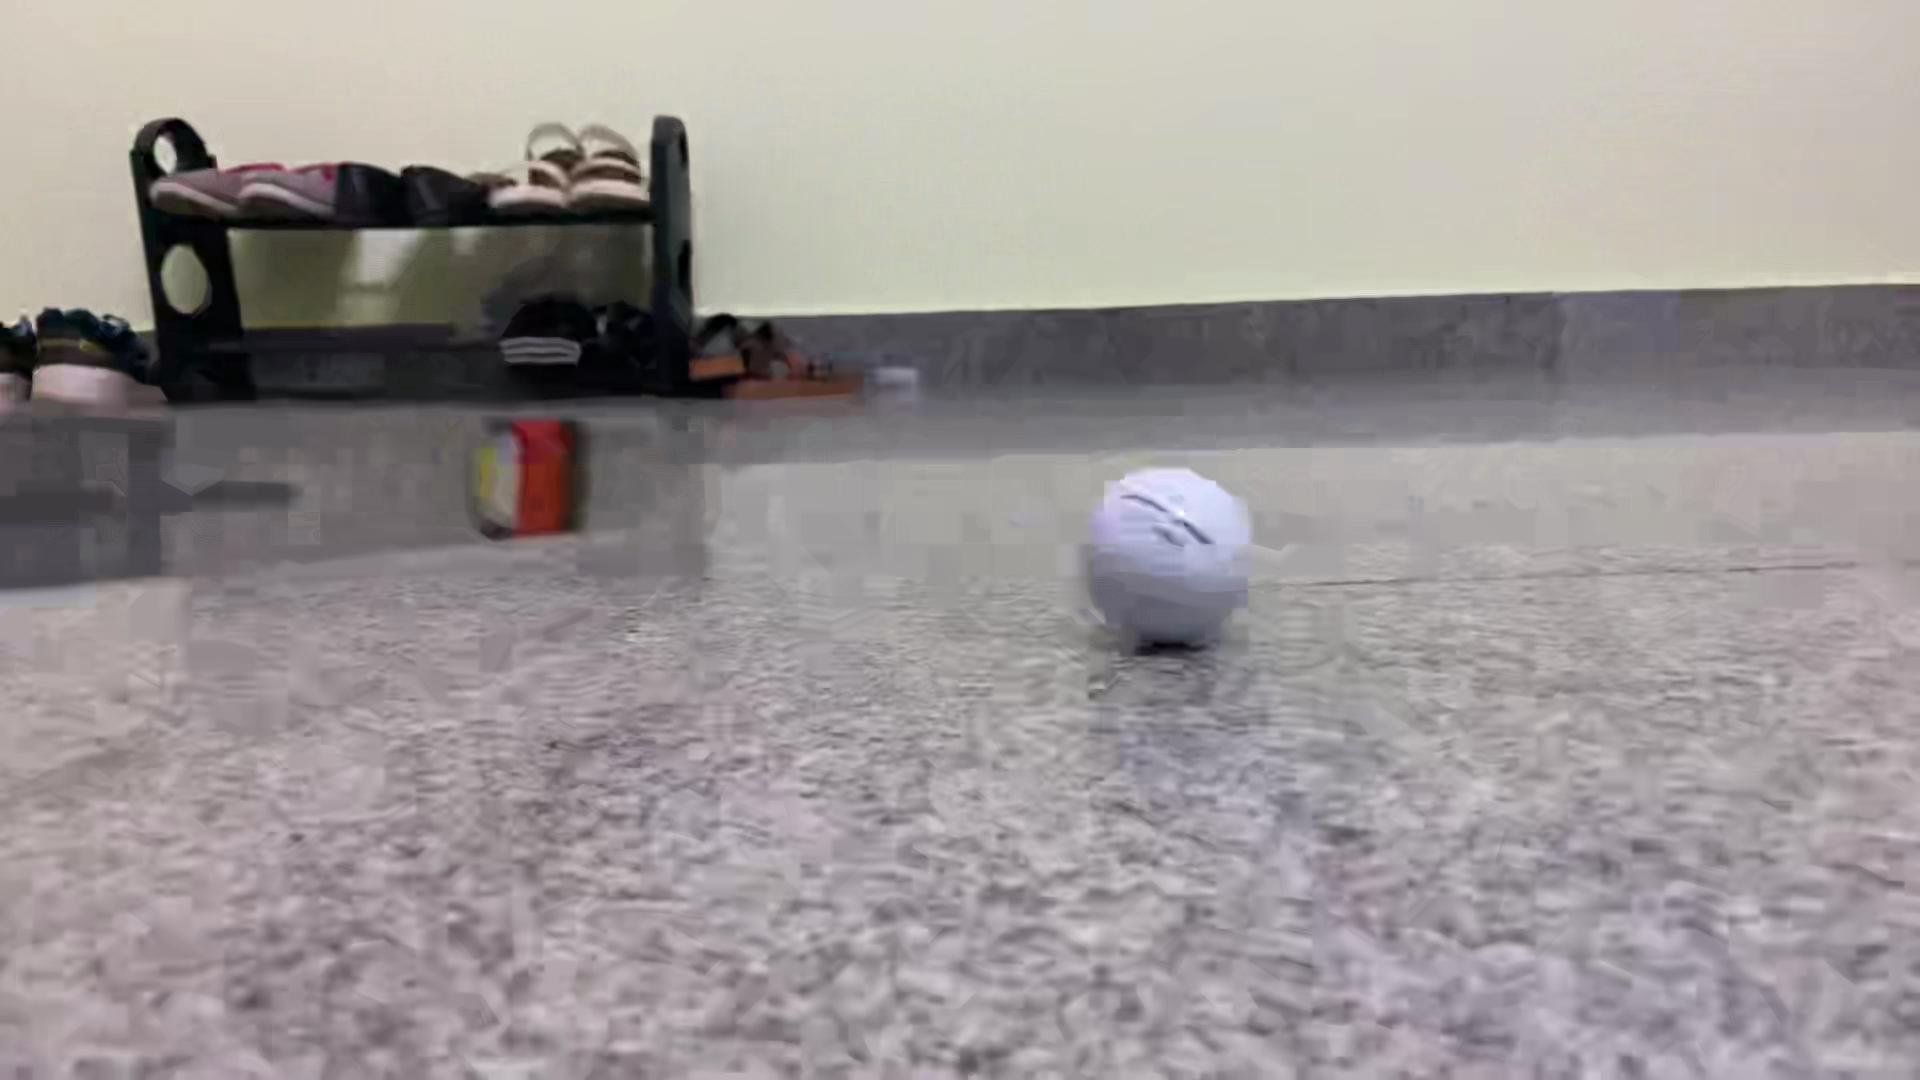golfball: (1079, 466, 1254, 645)
